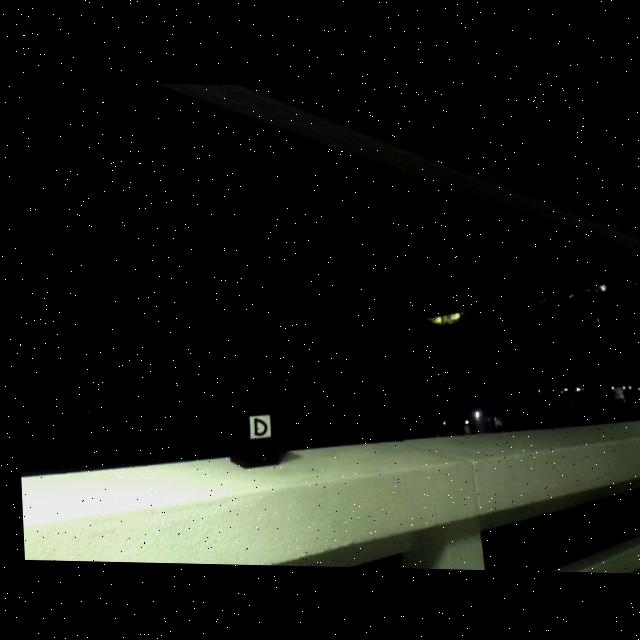D: (249, 416, 265, 435)
